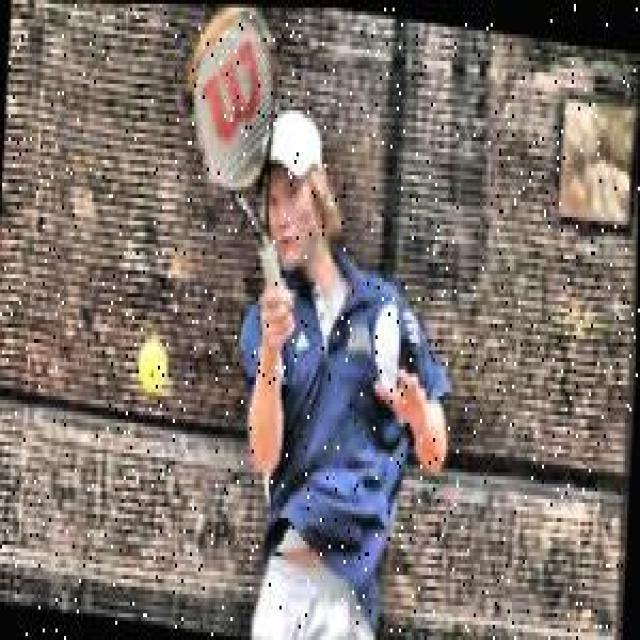tennis-ball: (140, 336, 170, 393)
